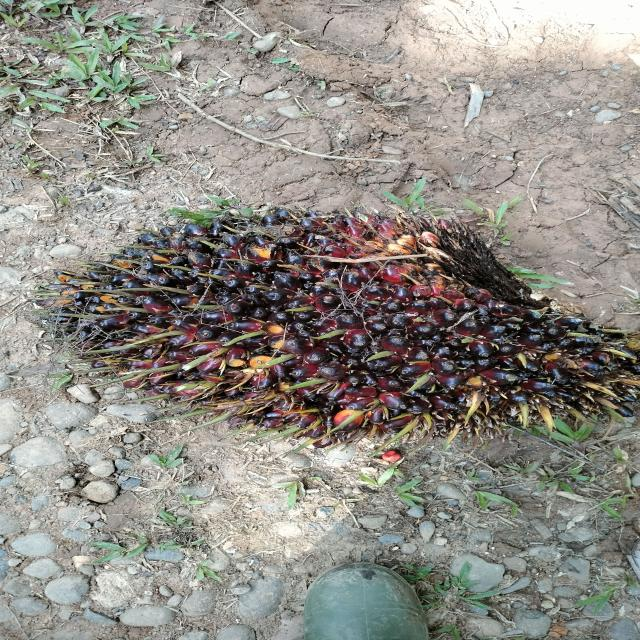fraksi 00: (22, 147, 635, 546)
